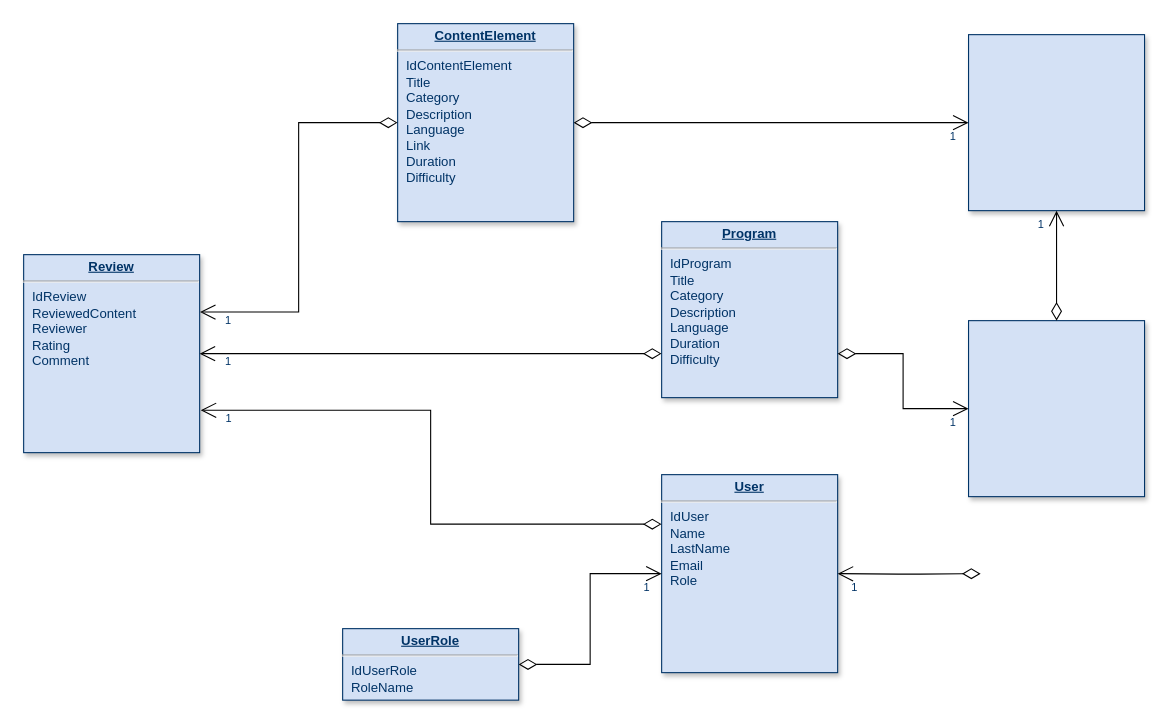
The diagram is 1170 pixels wide and 727 high, and some of its shapes have lost their labels. Here are the shapes that lost their labels. From the top down, the centre of each, then its label:
At (1057,123): "DayActivity IdDayActivity Title Description ContentElement DayInProgram".
At (1057,409): "DayInProgram IdDayInProgram Title Description Program DayNr".
